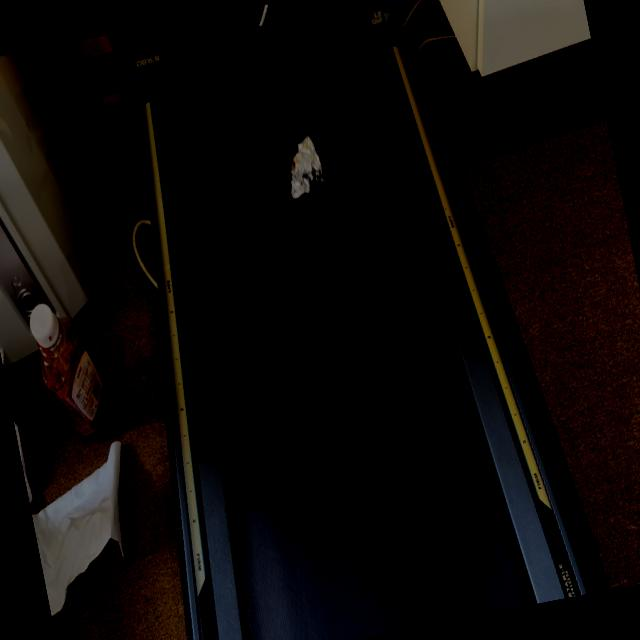Recycle: (283, 134, 329, 204)
